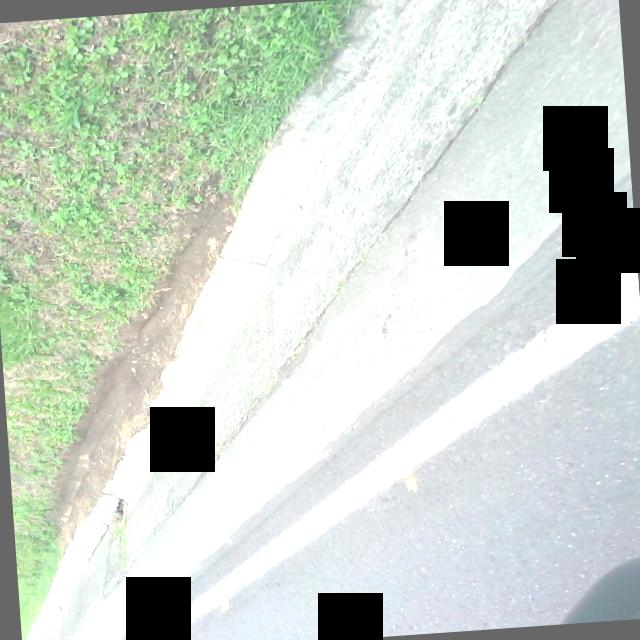DITCH: (0, 0, 640, 640), (63, 0, 640, 640)
